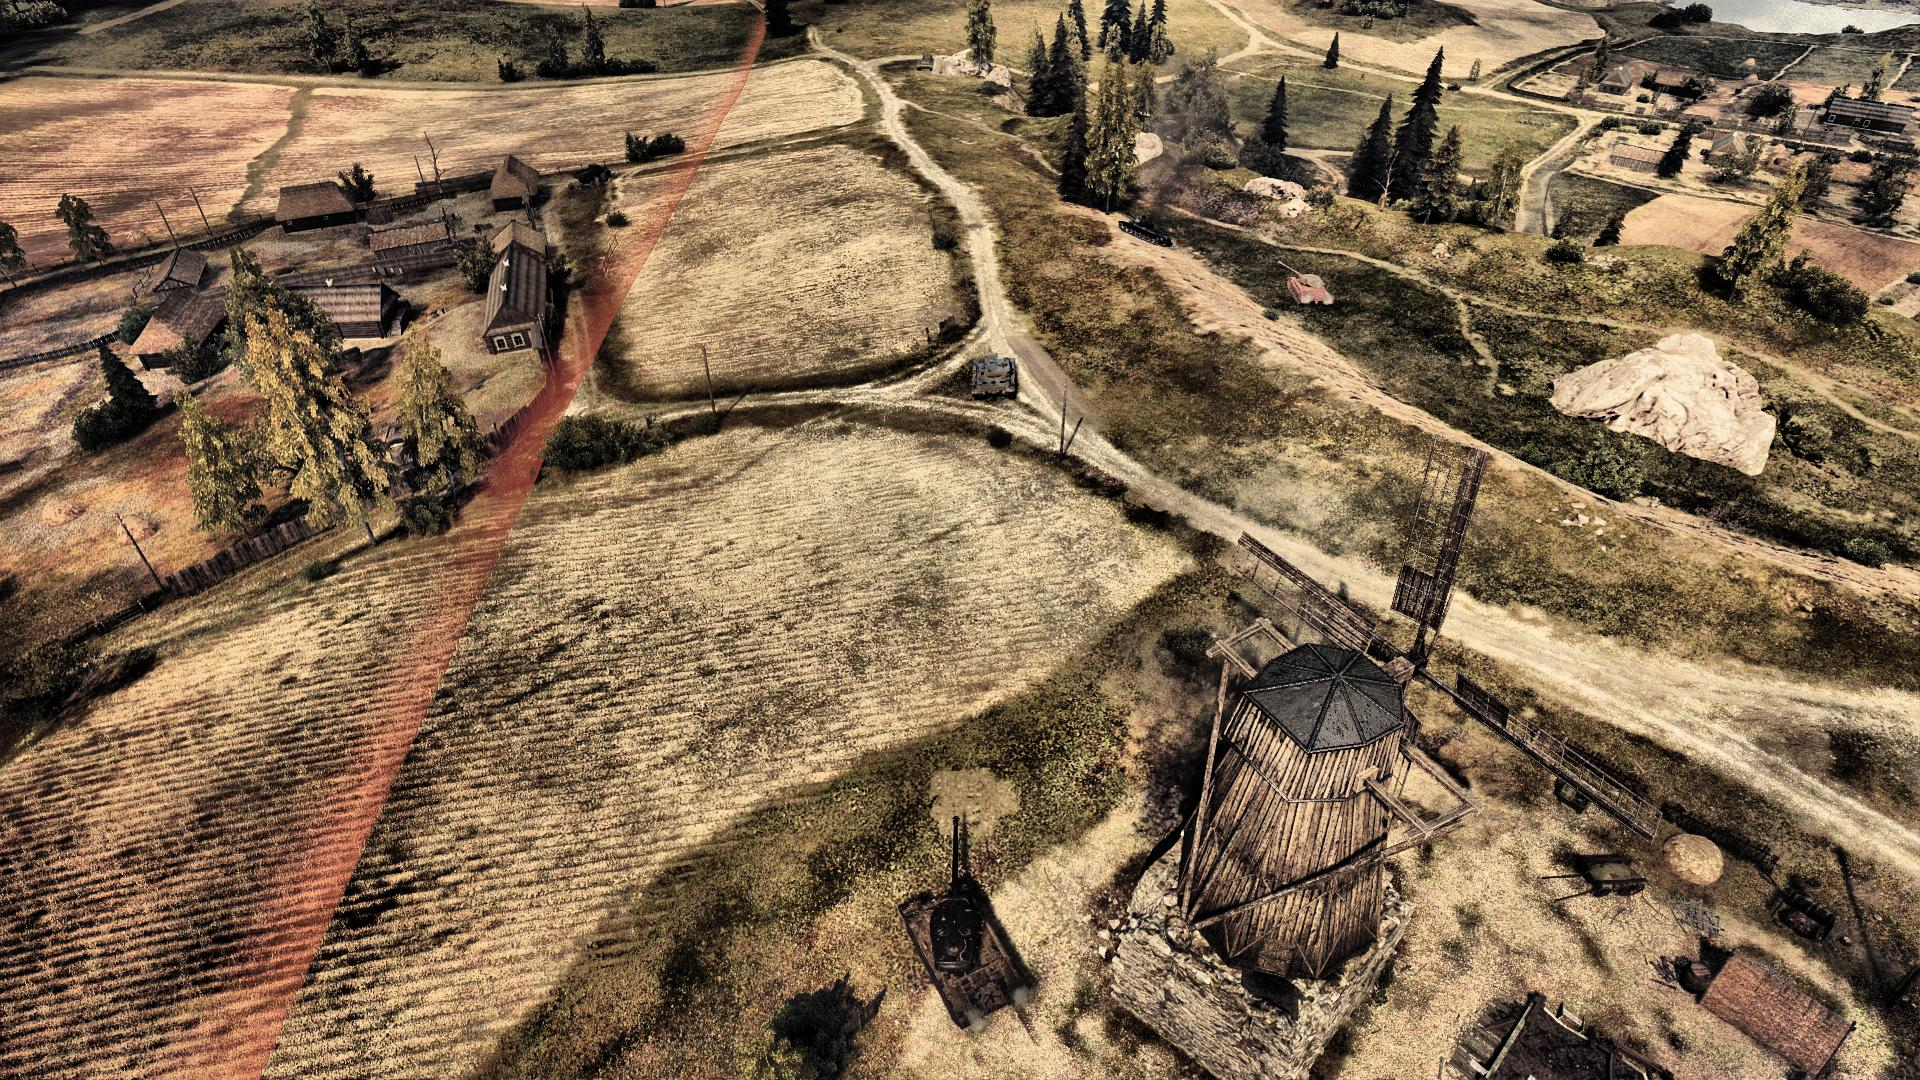military-vehicle: (898, 815, 1035, 1027), (1278, 258, 1333, 310), (971, 347, 1018, 396)
